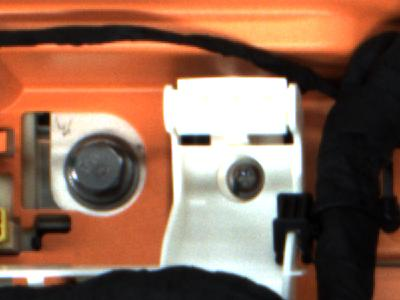nut_b: (61, 134, 141, 211)
